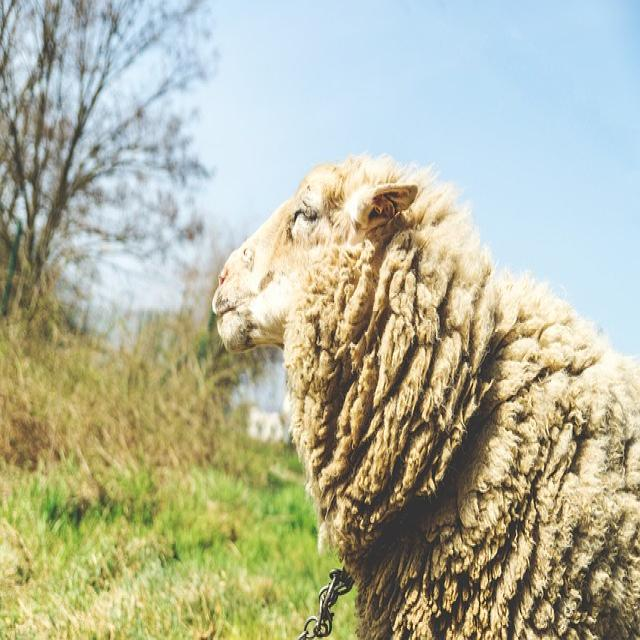sheep: (211, 150, 639, 639)
